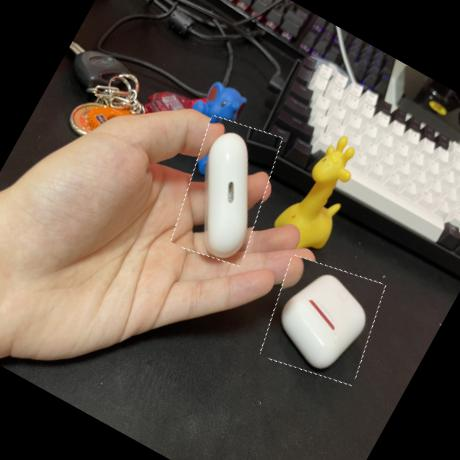airpod2: (248, 244, 397, 396)
airpod3: (154, 108, 298, 273)
